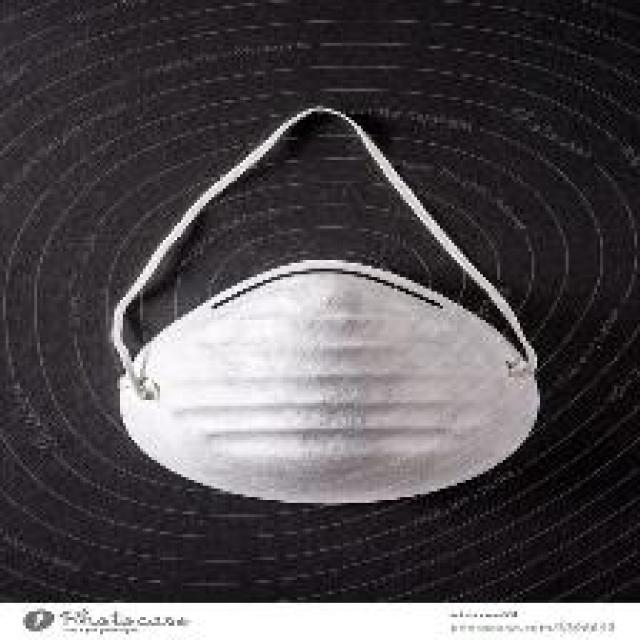Mask: (114, 97, 550, 536)
